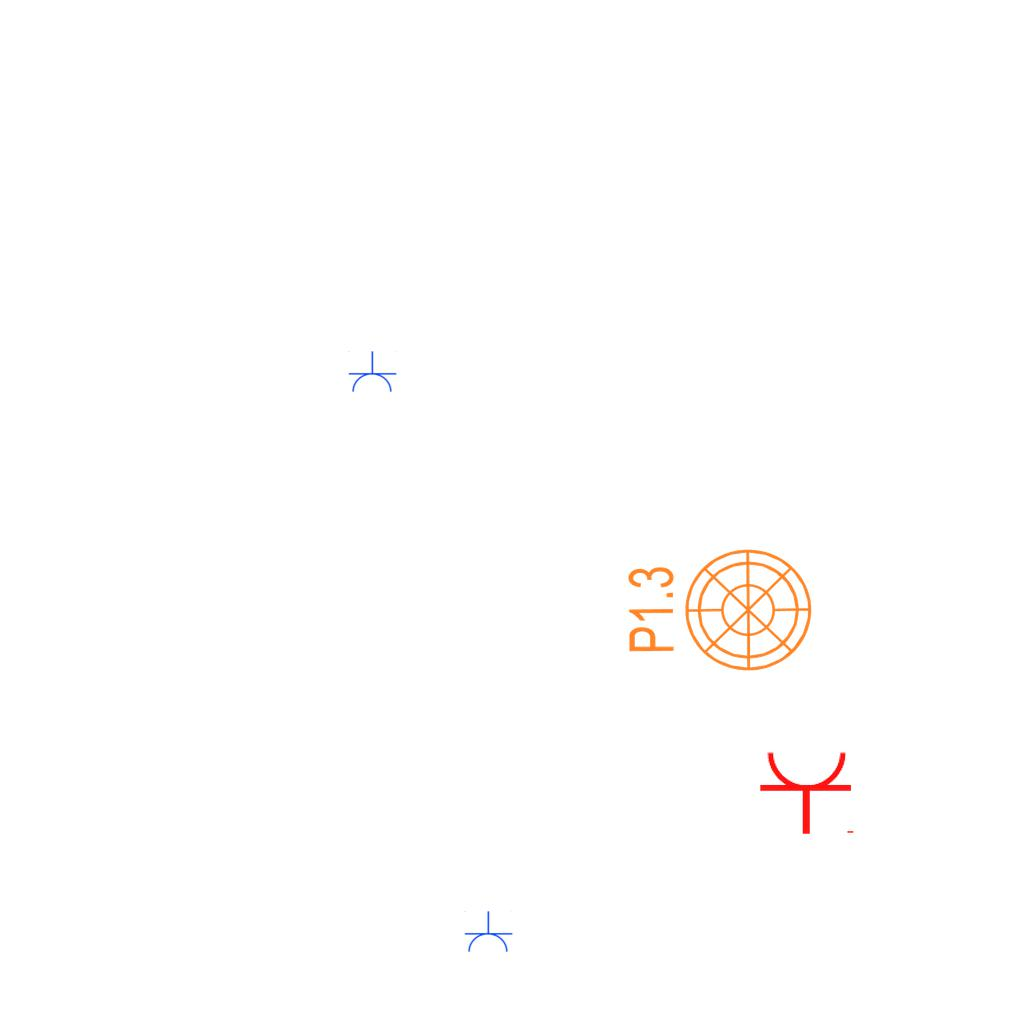Aufbaurundleuchte_LED_Treppenhaus: (610, 535, 815, 674)
Schukosteckdose_einfach: (758, 749, 858, 836), (463, 911, 513, 954), (347, 351, 397, 394)
